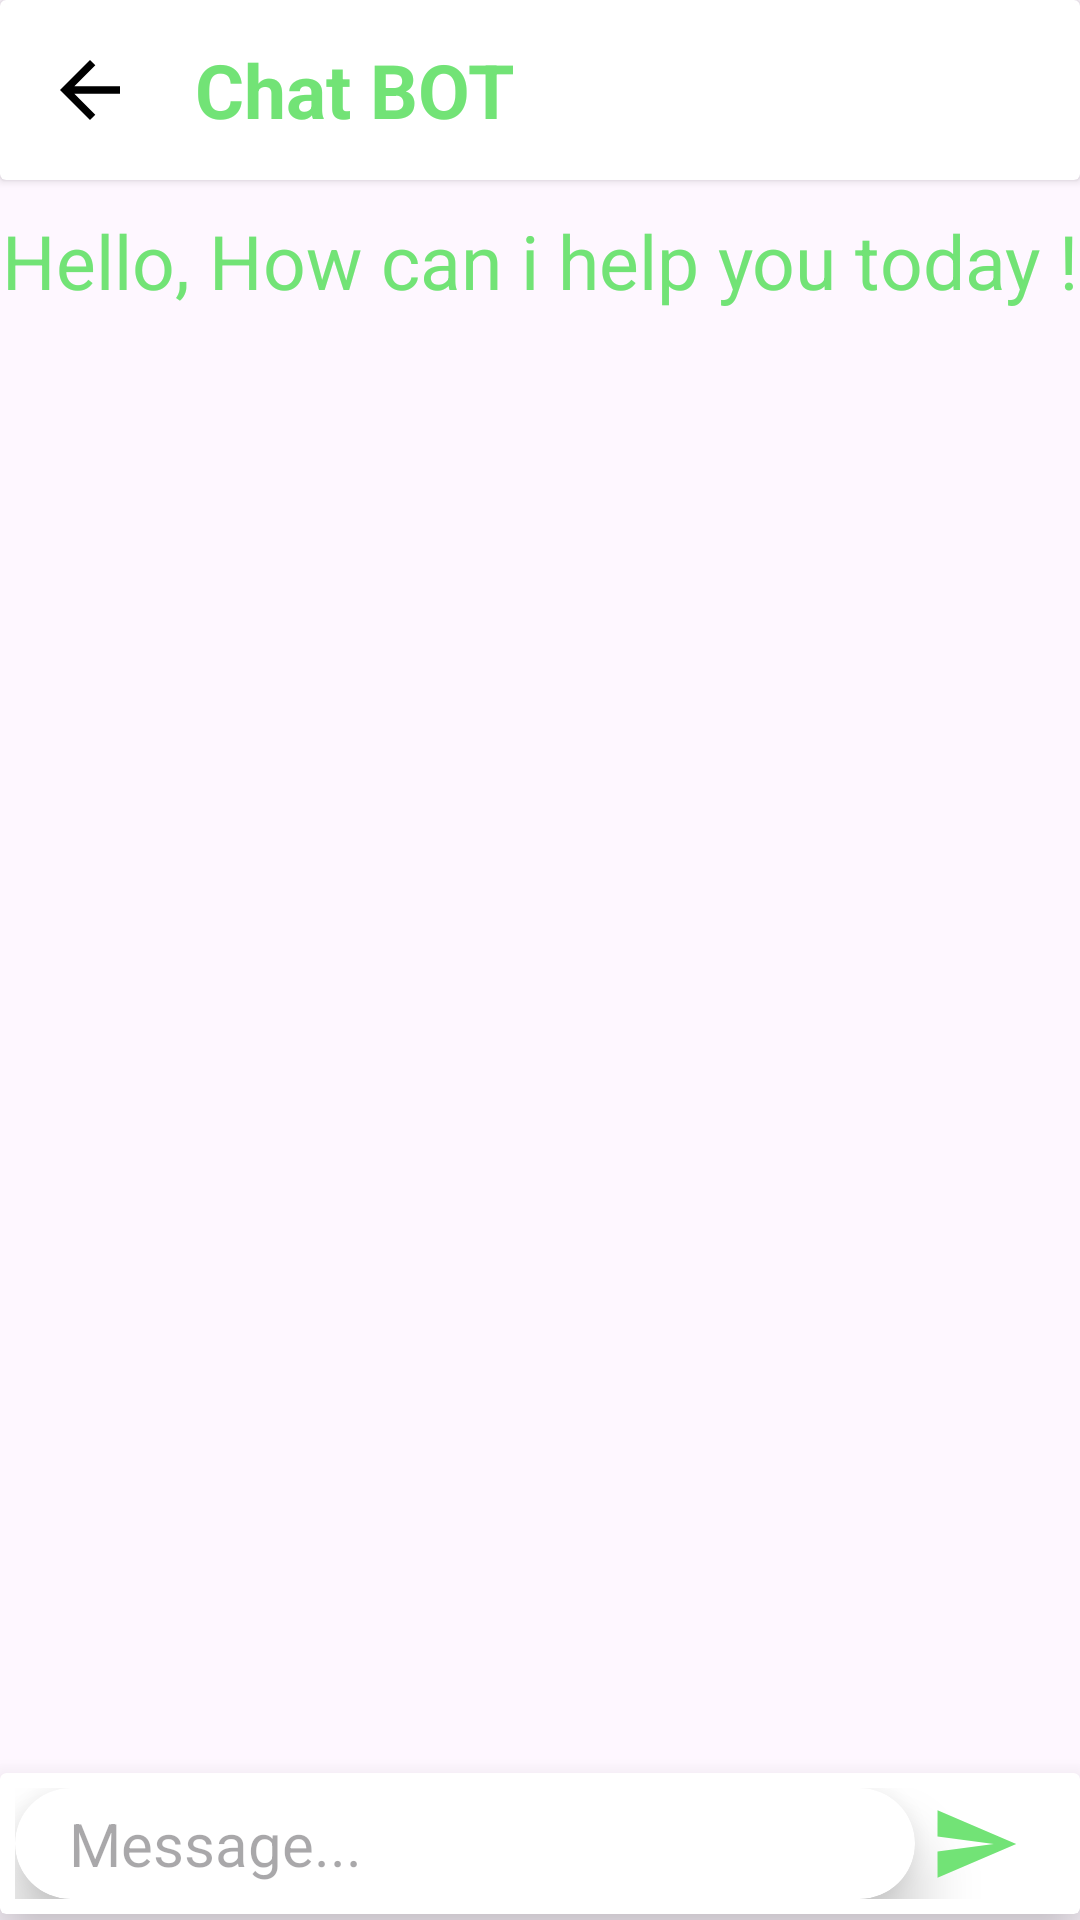

Screen size 1080×1920. Icon name, then its center in pixels as point (x, y):
arrow: point (90, 90)
send: point (976, 1844)
